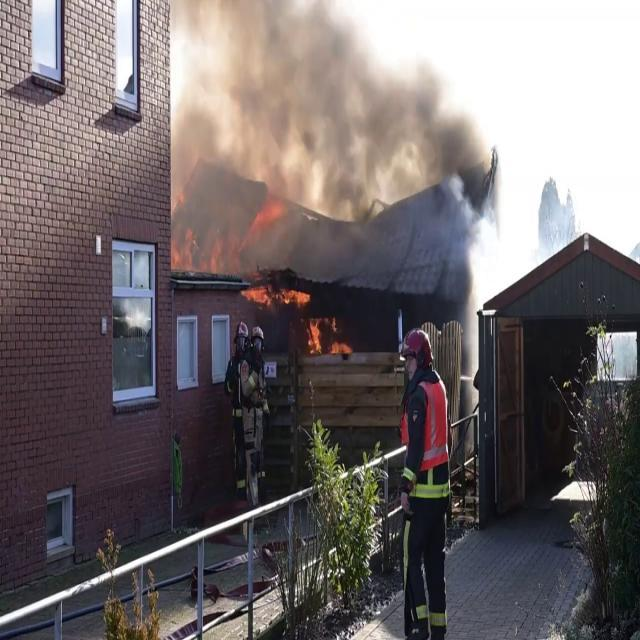Fire: (306, 312, 354, 359)
Smoke: (170, 0, 504, 305)
